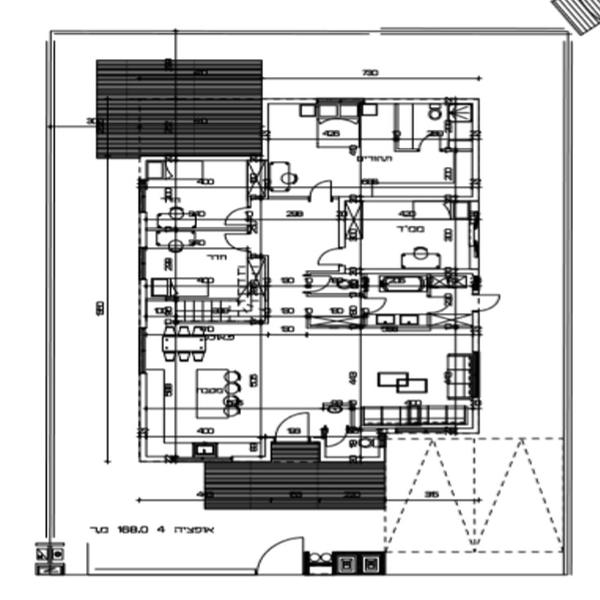door: (252, 534, 305, 578), (272, 404, 310, 443), (360, 294, 398, 324), (321, 420, 355, 451), (472, 291, 511, 315), (316, 241, 344, 269), (223, 232, 255, 253), (226, 205, 253, 228), (309, 178, 333, 203)
